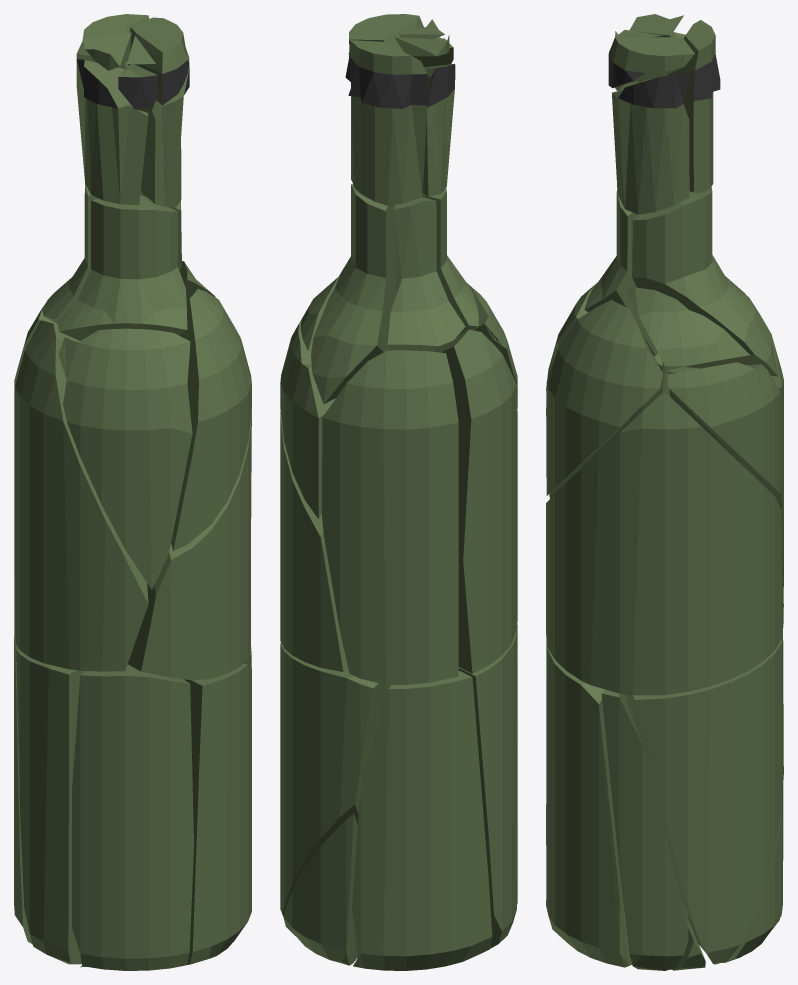
Rendered from Bottle_Destructed.fbx.
The picture shows the model from 3 angles, left to right: view 1: azimuth 30°, elevation 25°; view 2: azimuth 150°, elevation 25°; view 3: azimuth 270°, elevation 25°; orthographic projection.
Visible parts, largest first — view 1: Flasche_cell.028, Flasche_cell.006, Flasche_cell.001, Flasche_cell.023, Flasche_cell.029, Flasche_cell.013, Flasche_cell.015, Flasche_cell.017, Flasche_cell.018, Flasche_cell.010, Flasche_cell.022, Flasche_cell.008 (+5 smaller); view 2: Flasche_cell.025, Flasche_cell.008, Flasche_cell.006, Flasche_cell.027, Flasche_cell.016, Flasche_cell.007, Flasche_cell.013, Flasche_cell.029, Flasche_cell.004, Flasche_cell.002, Flasche_cell.012, Flasche_cell.018 (+5 smaller); view 3: Flasche_cell.029, Flasche_cell.027, Flasche_cell.023, Flasche_cell.015, Flasche_cell.014, Flasche_cell.007, Flasche_cell.010, Flasche_cell.012, Flasche_cell.005, Flasche_cell.016, Flasche_cell.022, Flasche_cell.017 (+5 smaller).
Part boxes in pixels (x1,y1,x2,y2): Flasche_cell.028: (72,664,193,970); Flasche_cell.006: (14,320,148,671); Flasche_cell.001: (58,328,192,589); Flasche_cell.023: (183,663,251,964); Flasche_cell.029: (128,411,251,680); Flasche_cell.013: (16,648,84,964); Flasche_cell.015: (171,289,251,551); Flasche_cell.017: (57,195,187,340); Flasche_cell.018: (77,59,148,204); Flasche_cell.010: (141,49,189,207); Flasche_cell.022: (128,17,189,105); Flasche_cell.008: (14,635,32,944); Flasche_cell.025: (322,350,458,684); Flasche_cell.008: (352,670,492,970); Flasche_cell.006: (433,329,517,673); Flasche_cell.027: (280,642,390,916); Flasche_cell.016: (348,40,427,205); Flasche_cell.007: (311,184,396,404); Flasche_cell.013: (458,633,517,947); Flasche_cell.029: (280,411,348,671); Flasche_cell.004: (387,197,465,351); Flasche_cell.002: (283,814,357,965); Flasche_cell.012: (280,317,335,518); Flasche_cell.018: (422,63,455,196); Flasche_cell.029: (546,391,783,695); Flasche_cell.027: (625,631,783,964); Flasche_cell.023: (546,648,632,967); Flasche_cell.015: (546,300,663,495); Flasche_cell.014: (601,689,688,970); Flasche_cell.007: (632,187,778,376); Flasche_cell.010: (612,72,689,214); Flasche_cell.012: (667,362,780,492); Flasche_cell.005: (625,287,749,369); Flasche_cell.016: (667,20,720,192); Flasche_cell.022: (608,37,694,87); Flasche_cell.017: (584,190,657,356).
Size of the model in its own units: 9.54 by 39.59 by 9.54.
